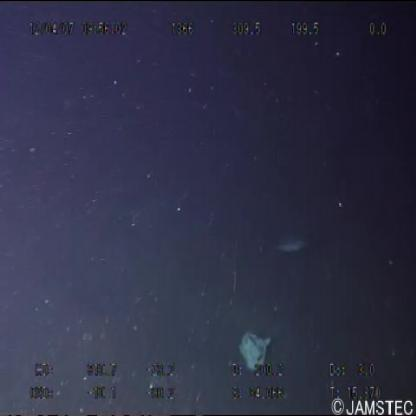Rác: (232, 327, 275, 372)
